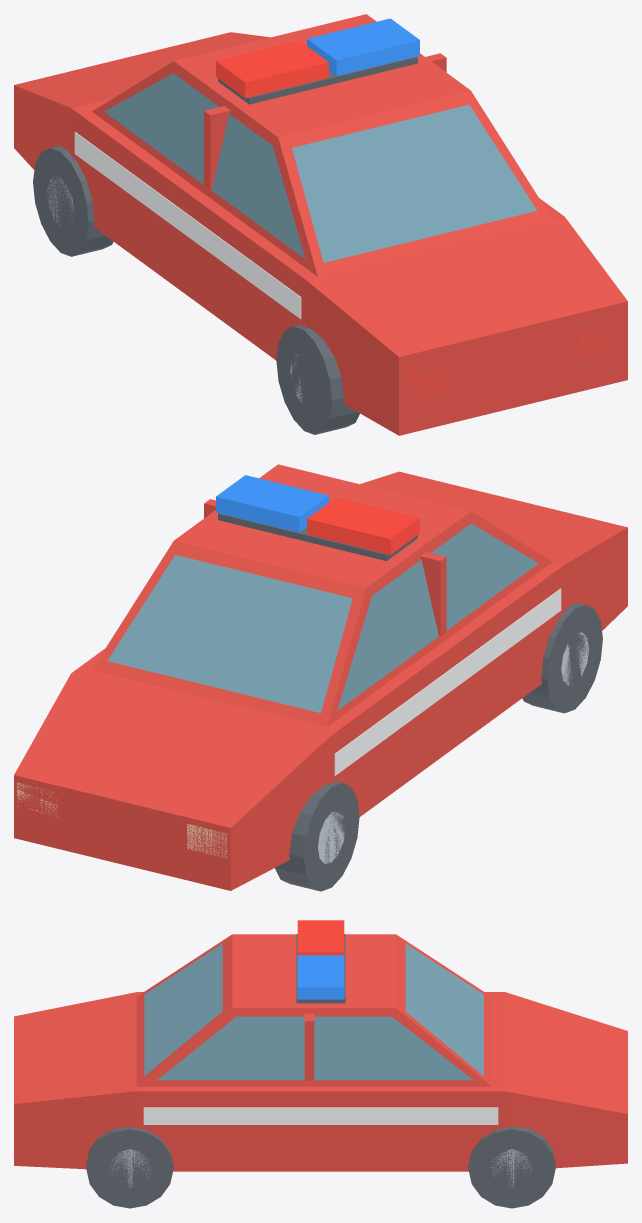
Rendered from emergency.glb.
3 renders of one model, top to bottom at view 1: azimuth 30°, elevation 25°; view 2: azimuth 150°, elevation 25°; view 3: azimuth 270°, elevation 25°, orthographic. The views are drawn at different scales.
Parts seen in each view (by area): view 1: body, rear_glass, cabin, window_left, wheel_rear_left, wheel_front_left, stripe_left, lightbar_red, lightbar_blue, lightbar_mount, pillar_left; view 2: body, windshield, cabin, window_left, wheel_front_left, stripe_left, wheel_rear_left, lightbar_red, lightbar_blue, lightbar_mount, pillar_left, hub_front_left (+2 smaller); view 3: body, cabin, window_right, stripe_right, rear_glass, windshield, wheel_front_right, wheel_rear_right, lightbar_blue, lightbar_red, pillar_right, hub_rear_right (+2 smaller).
Part boxes in pixels (x1=…): body: x1=14, y1=32, x2=627, y2=435; rear_glass: x1=292, y1=104, x2=537, y2=262; cabin: x1=92, y1=14, x2=552, y2=276; window_left: x1=104, y1=73, x2=305, y2=258; wheel_rear_left: x1=276, y1=325, x2=359, y2=434; wheel_front_left: x1=33, y1=146, x2=113, y2=256; stripe_left: x1=74, y1=132, x2=301, y2=319; lightbar_red: x1=216, y1=40, x2=328, y2=98; lightbar_blue: x1=307, y1=18, x2=419, y2=75; lightbar_mount: x1=218, y1=56, x2=417, y2=104; pillar_left: x1=204, y1=106, x2=230, y2=190; body: x1=14, y1=471, x2=627, y2=890; windshield: x1=107, y1=555, x2=352, y2=712; cabin: x1=92, y1=464, x2=552, y2=726; window_left: x1=337, y1=523, x2=538, y2=710; wheel_front_left: x1=275, y1=781, x2=359, y2=891; stripe_left: x1=334, y1=588, x2=561, y2=775; wheel_rear_left: x1=522, y1=602, x2=602, y2=713; lightbar_red: x1=307, y1=497, x2=419, y2=554; lightbar_blue: x1=216, y1=475, x2=328, y2=532; lightbar_mount: x1=218, y1=513, x2=417, y2=560; pillar_left: x1=420, y1=552, x2=446, y2=636; hub_front_left: x1=318, y1=812, x2=344, y2=863; body: x1=14, y1=992, x2=627, y2=1171; cabin: x1=136, y1=934, x2=491, y2=1086; window_right: x1=157, y1=1016, x2=473, y2=1080; stripe_right: x1=143, y1=1107, x2=498, y2=1124; rear_glass: x1=144, y1=943, x2=222, y2=1075; windshield: x1=405, y1=944, x2=483, y2=1075; wheel_front_right: x1=468, y1=1126, x2=555, y2=1208; wheel_rear_right: x1=86, y1=1127, x2=173, y2=1208; lightbar_blue: x1=297, y1=955, x2=344, y2=999; lightbar_red: x1=297, y1=920, x2=344, y2=955; pillar_right: x1=304, y1=1013, x2=314, y2=1080; hub_rear_right: x1=111, y1=1149, x2=150, y2=1188.
Size of the model in its own units: 1.8 by 1.64 by 4.5.
